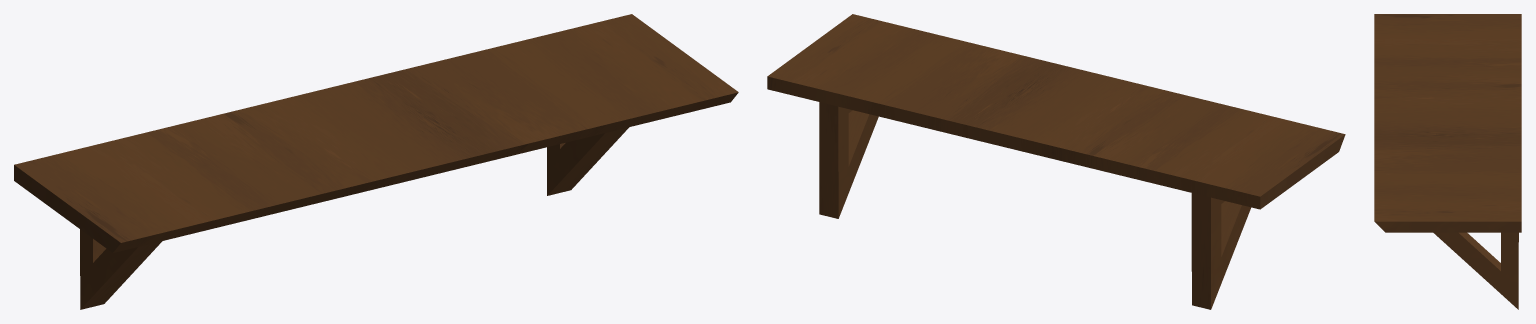
The model's file is cupboard_02.fbx.
3 views of the same model, side by side, from view 1: azimuth 30°, elevation 25°; view 2: azimuth 150°, elevation 25°; view 3: azimuth 270°, elevation 25° (orthographic). The views are drawn at different scales.
Parts seen in each view (by area): view 1: Cube.136; view 2: Cube.136; view 3: Cube.136.
Part boxes in pixels (x1=…): Cube.136: x1=14, y1=14, x2=738, y2=309; Cube.136: x1=767, y1=14, x2=1345, y2=309; Cube.136: x1=1374, y1=14, x2=1521, y2=309.
Size of the model in its own units: 261 by 64.19 by 78.17.
